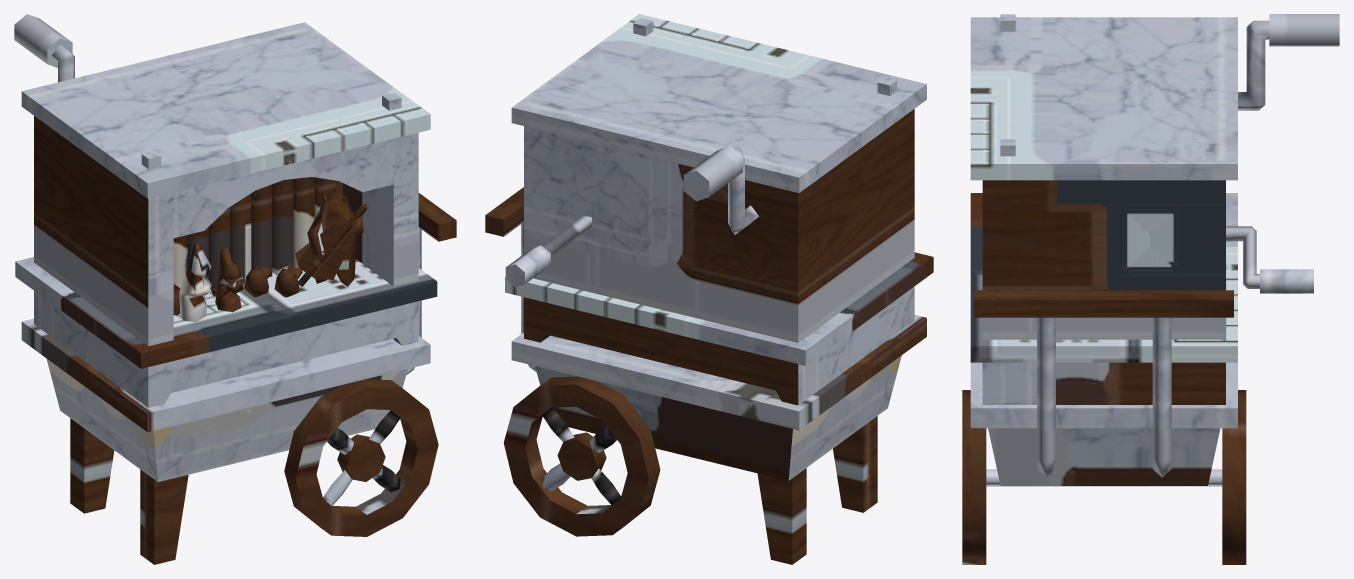
The model's file is organ_street.fbx.
3 renders of one model, left to right at view 1: azimuth 30°, elevation 25°; view 2: azimuth 150°, elevation 25°; view 3: azimuth 270°, elevation 25°, orthographic. The views are drawn at different scales.
Visible parts, largest first — view 1: OrganStreet; view 2: OrganStreet; view 3: OrganStreet.
Boxes of the visible parts, x1,y1,x2,y2 form: OrganStreet: (14,14,456,564); OrganStreet: (485,14,933,564); OrganStreet: (962,14,1339,564).
Bounding box in the file's own units: 293 × 381 × 284.
